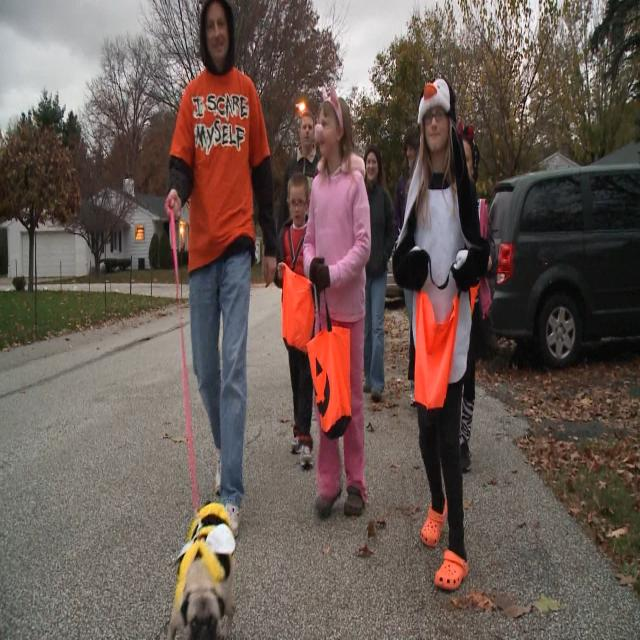body: (162, 0, 280, 541), (389, 70, 492, 595), (301, 80, 373, 524), (450, 125, 493, 475), (271, 168, 317, 473), (361, 142, 397, 404), (395, 126, 423, 404), (282, 108, 322, 214)
